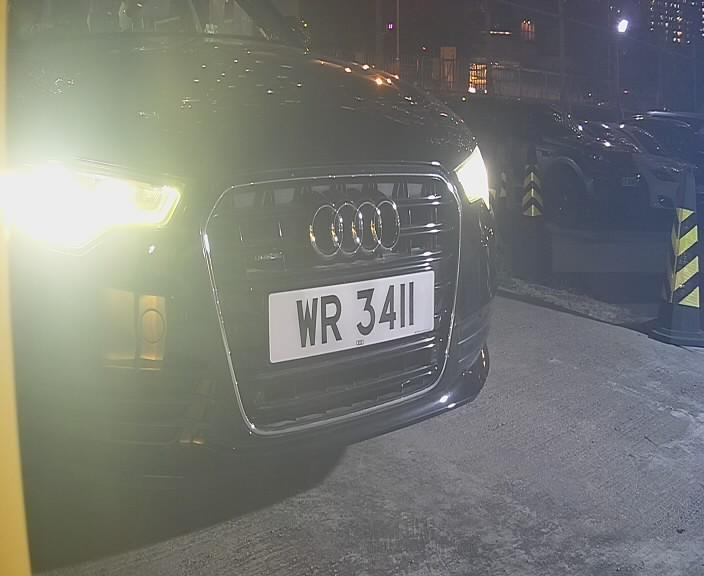Car: (23, 3, 604, 507)
License Plate: (268, 258, 437, 368)
